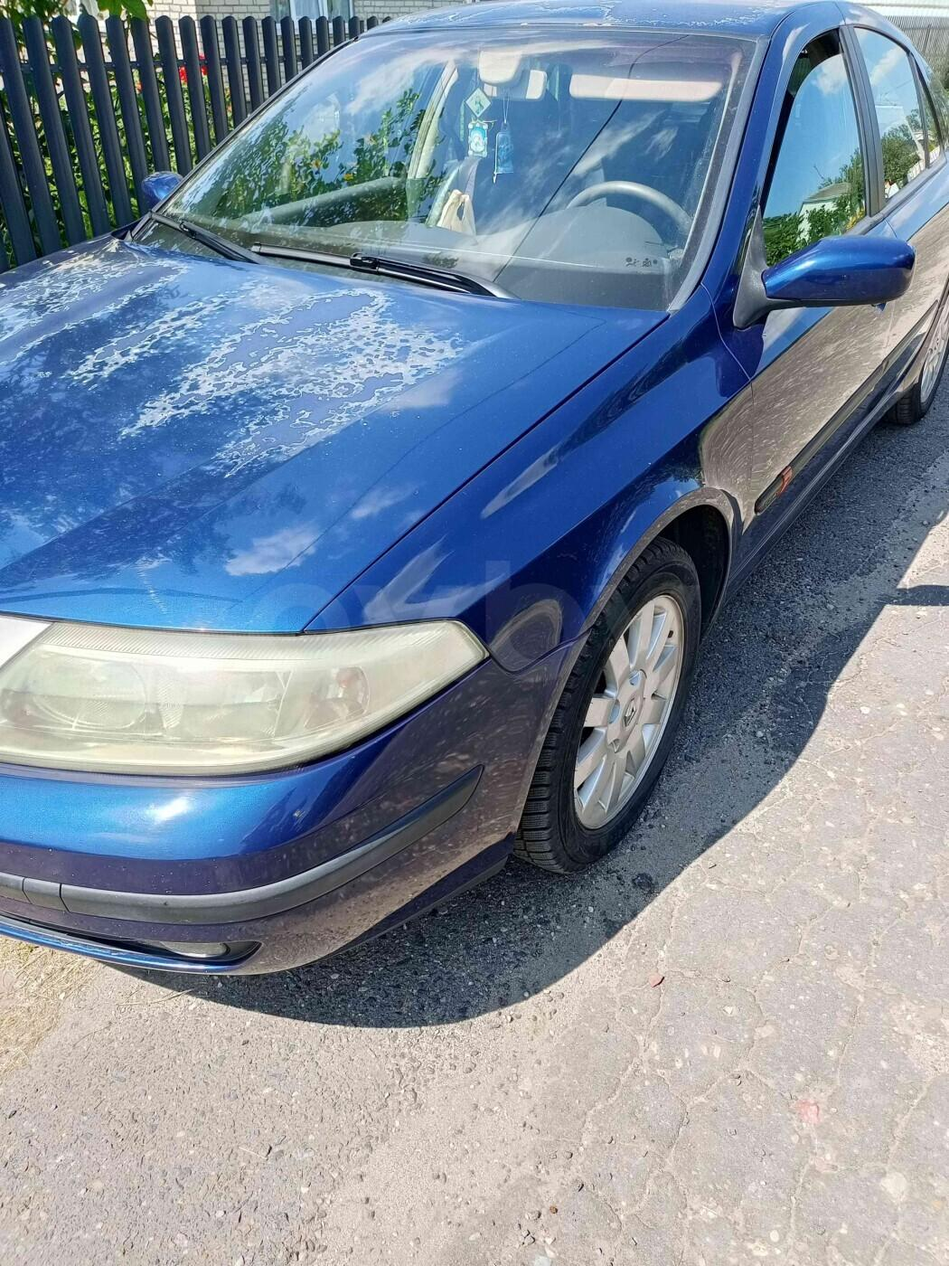Laguna_2001-2005: (0, 0, 948, 977)
